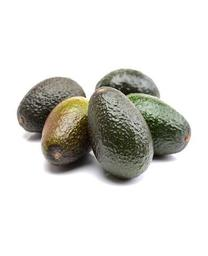avocado: (87, 86, 154, 181), (123, 92, 191, 160), (16, 77, 87, 133), (41, 96, 97, 167), (95, 69, 161, 120)
